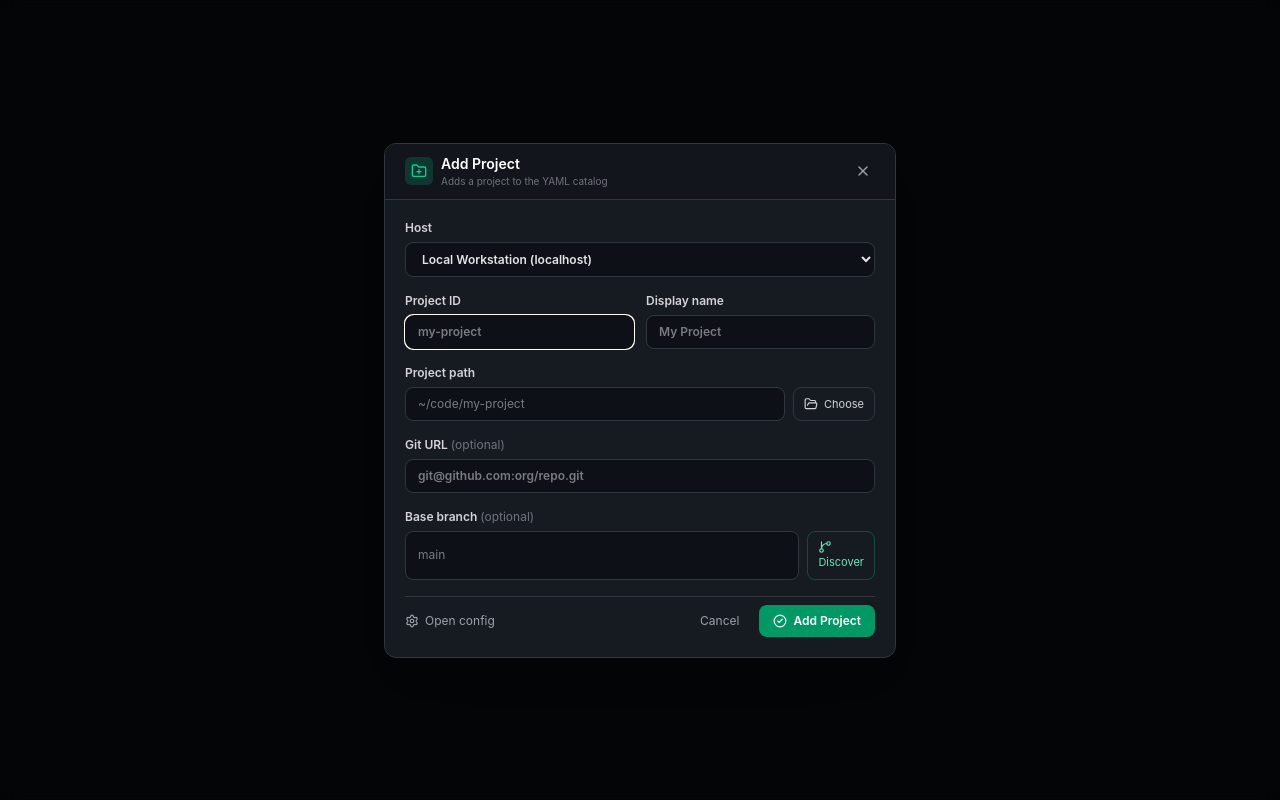
Test: NewProjectModal › fills the path from the native folder picker
Click the button with test id "new-project-choose-path".
click(834, 404)  # box [793,386,875,421]
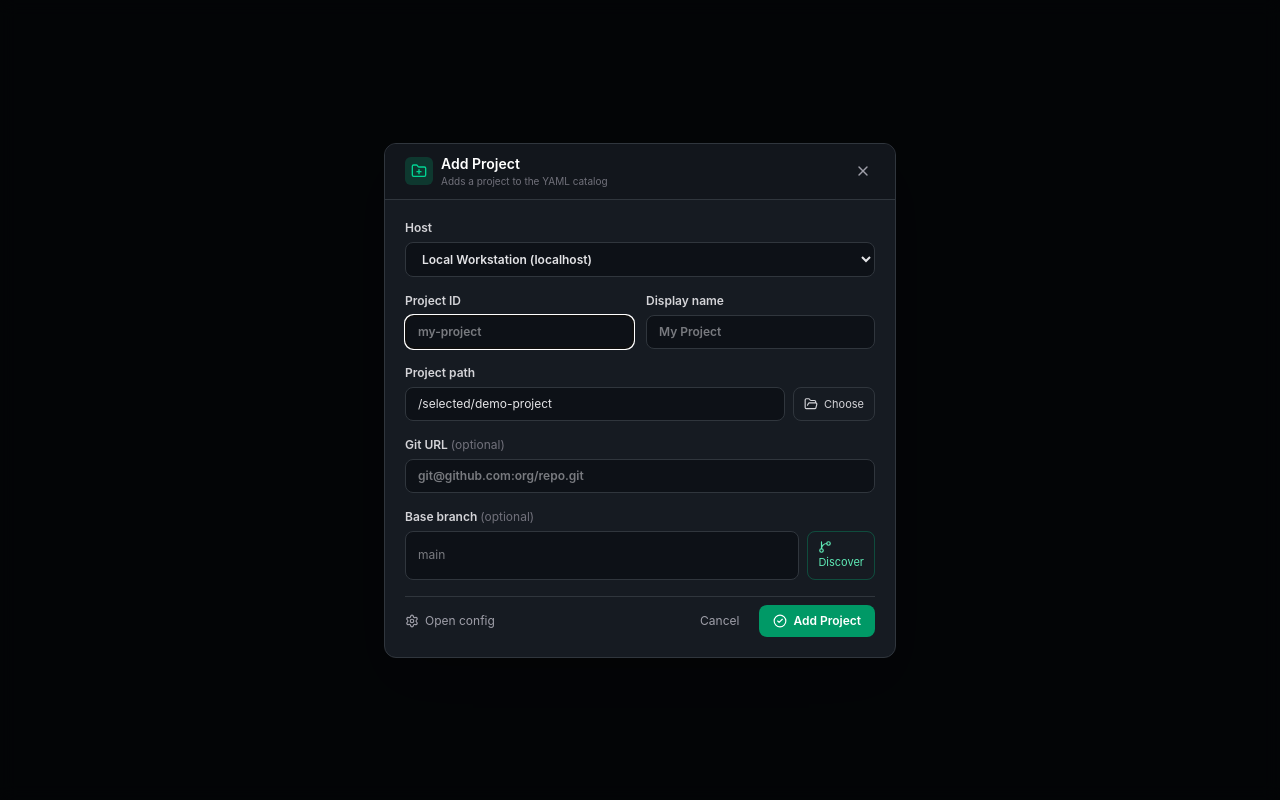
expect the field with test id "new-project-path" holds "/selected/demo-project": met, box [405,386,785,421]
